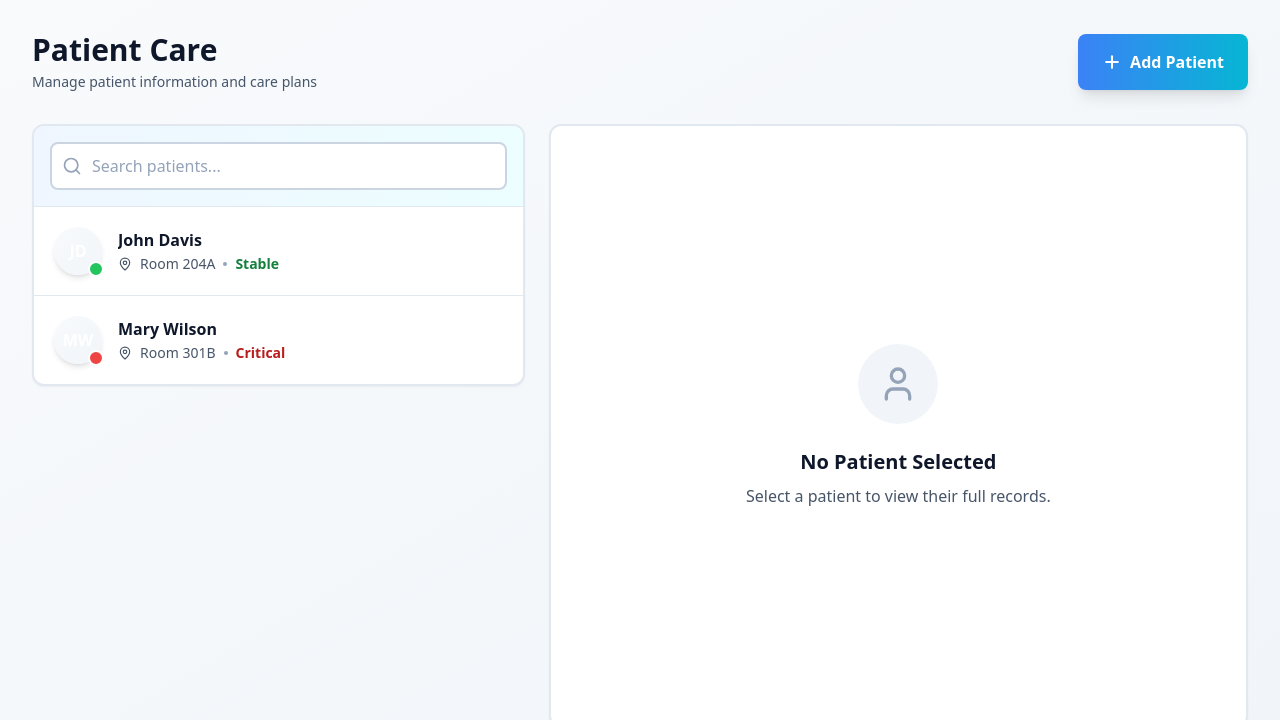
PatientCare UI Tests › filters the patient list based on search input
Search for Mary
In the field with placeholder "Search patients...": (278, 166) [50,142,507,190], type "Mary"
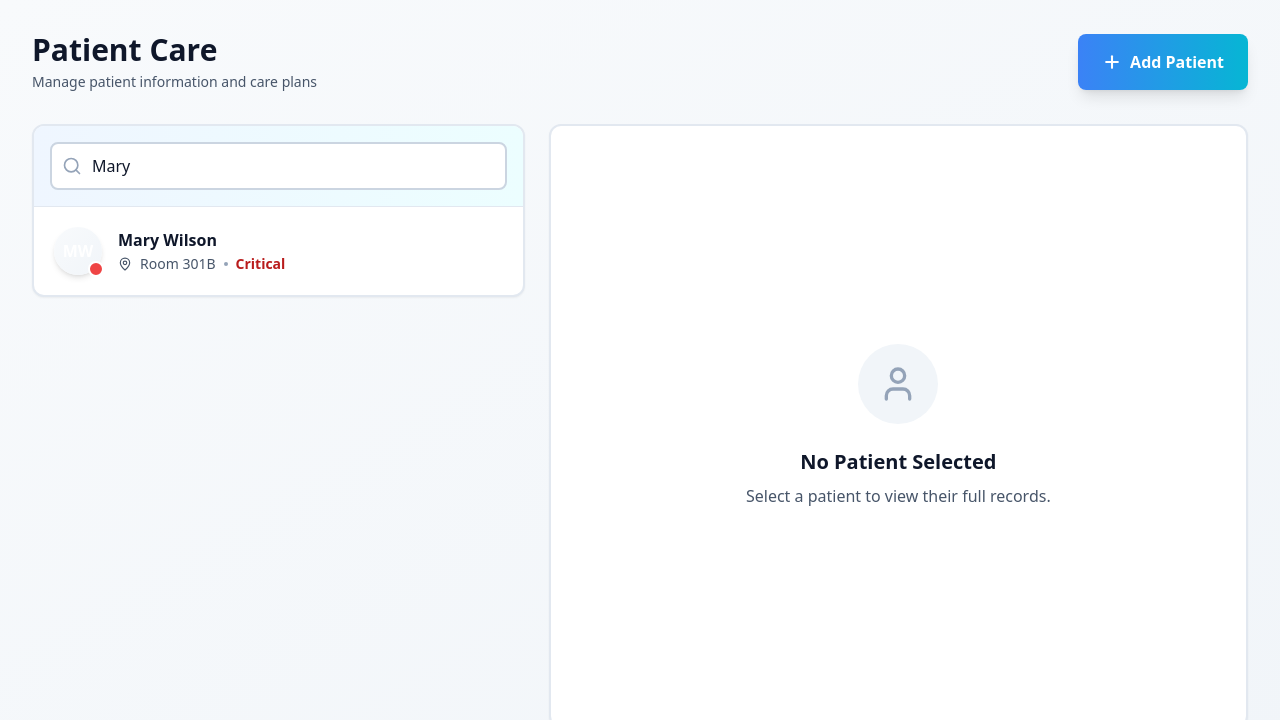
Expected: the heading "Mary Wilson" is shown, [118,229,217,251]
Result: the button "John Davis" is gone
